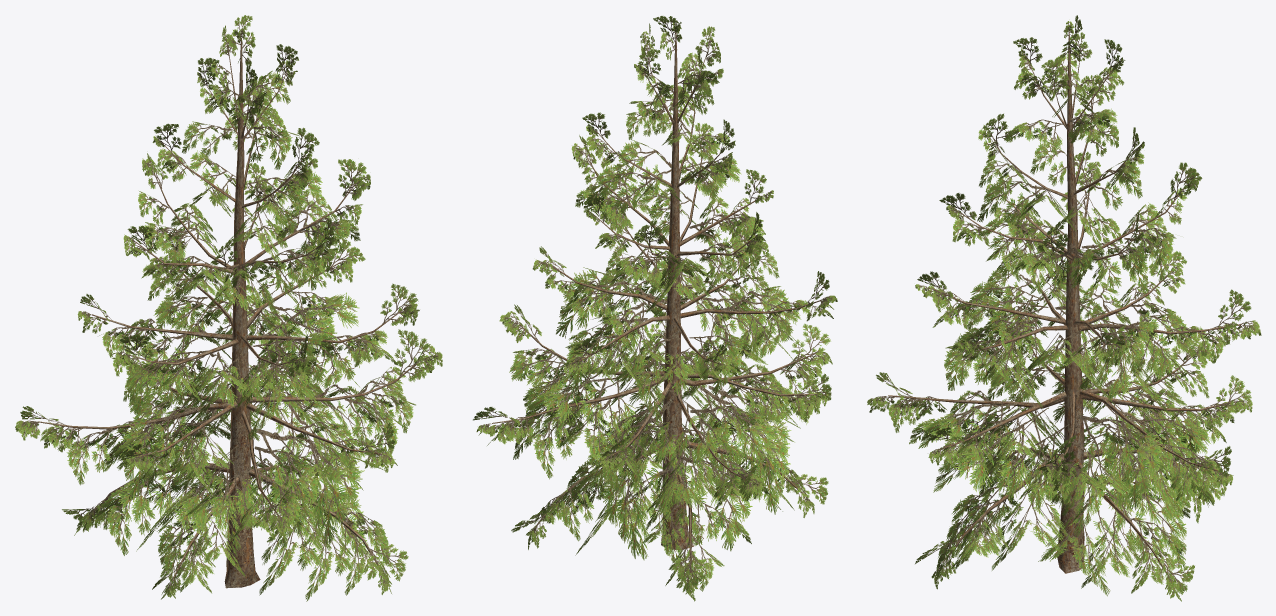
Rendered from fir-02.gltf.
3 renders of one model, left to right at view 1: azimuth 30°, elevation 25°; view 2: azimuth 150°, elevation 25°; view 3: azimuth 270°, elevation 25°, orthographic. The views are drawn at different scales.
Parts seen in each view (by area): view 1: fir-02; view 2: fir-02; view 3: fir-02.
Boxes of the visible parts, x1=… form: fir-02: x1=15, y1=15, x2=442, y2=601; fir-02: x1=473, y1=16, x2=837, y2=601; fir-02: x1=867, y1=15, x2=1261, y2=601.
Bounding box in the file's own units: 418 × 636 × 412.
